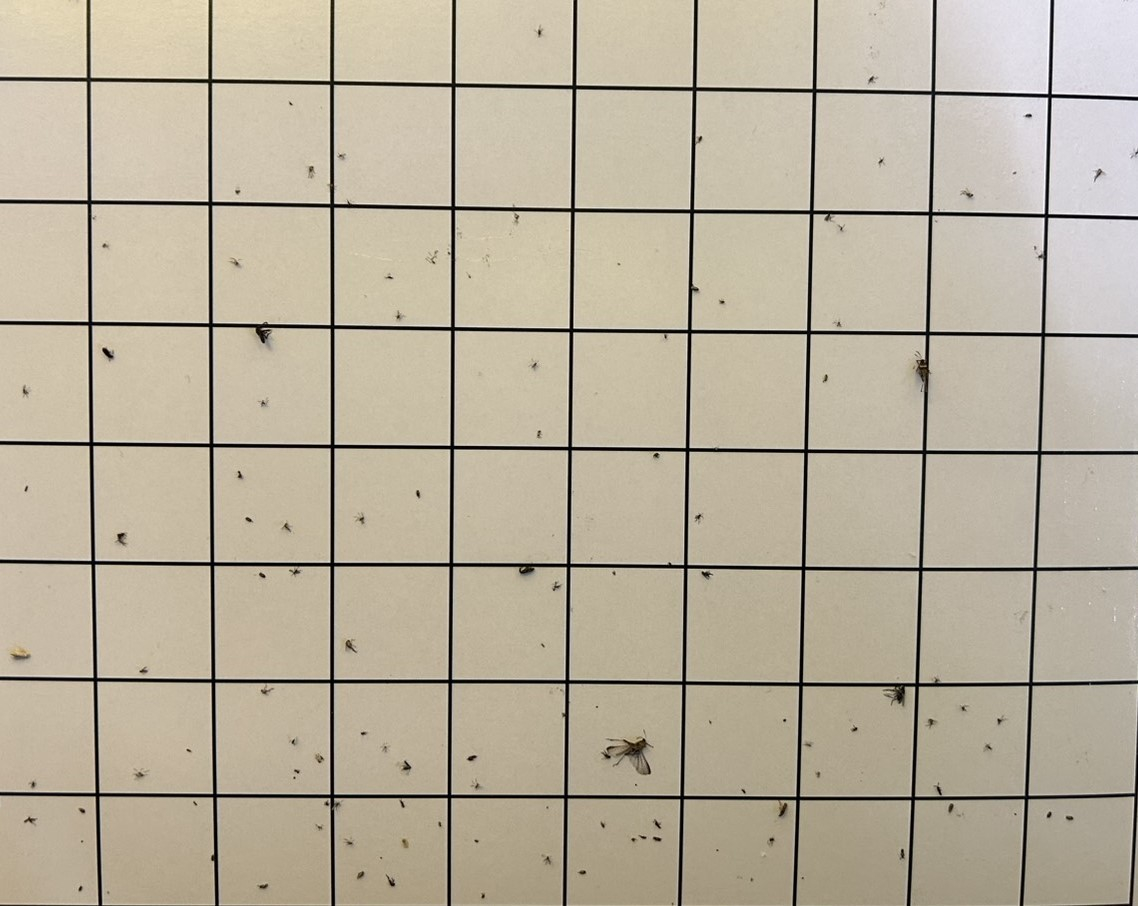fly: (882, 681, 908, 709)
test: (598, 727, 659, 777), (912, 351, 934, 385), (253, 321, 274, 345), (9, 644, 31, 662), (1091, 165, 1108, 185), (342, 636, 360, 654), (114, 531, 130, 548), (101, 345, 116, 363), (517, 562, 536, 576), (699, 568, 716, 583), (959, 186, 976, 200), (384, 872, 398, 888), (777, 800, 789, 818), (280, 520, 295, 534), (259, 683, 275, 696), (23, 814, 40, 826), (822, 211, 836, 225), (924, 717, 939, 730), (599, 747, 612, 762), (353, 511, 366, 526), (132, 768, 148, 780), (306, 163, 318, 179), (400, 759, 414, 772), (20, 384, 33, 398), (393, 309, 406, 323), (694, 511, 707, 525), (866, 73, 880, 86), (982, 741, 995, 754), (342, 836, 356, 848), (933, 782, 944, 797), (877, 155, 888, 170), (652, 817, 664, 830), (289, 565, 302, 577), (380, 742, 392, 754), (551, 580, 563, 592), (534, 25, 546, 37), (688, 283, 701, 294), (229, 257, 242, 268), (530, 357, 540, 371), (945, 802, 956, 814), (471, 779, 482, 791), (258, 570, 270, 581), (693, 134, 704, 146), (401, 837, 411, 850), (331, 800, 342, 811), (466, 753, 478, 763), (356, 869, 366, 881), (314, 753, 324, 765), (414, 488, 424, 500), (336, 151, 348, 161), (137, 666, 150, 675), (1064, 813, 1075, 823), (652, 834, 663, 844), (258, 398, 269, 408), (898, 848, 907, 860), (236, 469, 245, 481), (802, 740, 813, 749), (543, 855, 552, 866), (258, 882, 269, 891), (837, 223, 846, 234), (996, 715, 1005, 725), (398, 799, 407, 809), (245, 515, 254, 525), (652, 451, 661, 461), (599, 820, 607, 831), (384, 273, 395, 281), (512, 213, 520, 224), (822, 372, 829, 384), (289, 737, 298, 746), (28, 780, 37, 789), (1036, 252, 1045, 261), (1024, 111, 1033, 120), (1045, 810, 1053, 820), (578, 868, 588, 876), (23, 484, 30, 495), (959, 704, 968, 712), (850, 725, 859, 733), (359, 729, 368, 737), (77, 807, 86, 815), (535, 429, 543, 438), (718, 298, 727, 306), (287, 99, 295, 108), (292, 767, 302, 774), (479, 892, 487, 900), (316, 823, 324, 831), (345, 199, 353, 207), (101, 242, 109, 250), (767, 836, 776, 843), (639, 833, 648, 840), (836, 320, 843, 329), (934, 676, 941, 684), (815, 770, 822, 778), (739, 787, 747, 794), (473, 837, 481, 844), (561, 711, 569, 718), (185, 747, 193, 754), (192, 800, 199, 808), (208, 854, 216, 861), (77, 885, 84, 893), (611, 569, 618, 577), (234, 188, 241, 196), (437, 820, 443, 829), (663, 332, 668, 342), (323, 800, 330, 807), (748, 876, 755, 883), (707, 718, 713, 726), (630, 836, 636, 843), (540, 642, 546, 649), (616, 261, 622, 268), (1011, 169, 1017, 176), (594, 704, 600, 710), (667, 561, 673, 567), (800, 875, 806, 881), (292, 775, 297, 781), (782, 717, 787, 722), (545, 805, 550, 810), (715, 848, 720, 853), (379, 855, 384, 860), (634, 782, 638, 788), (80, 839, 84, 844)
